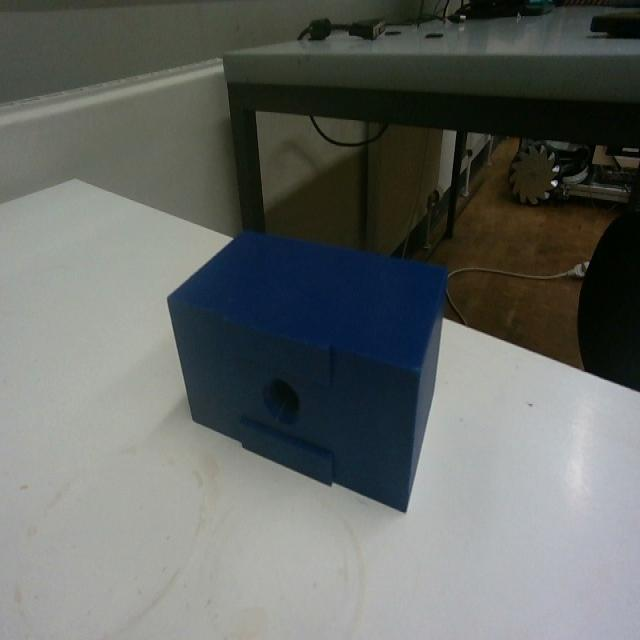Blue Cuboid: (164, 224, 450, 513)
